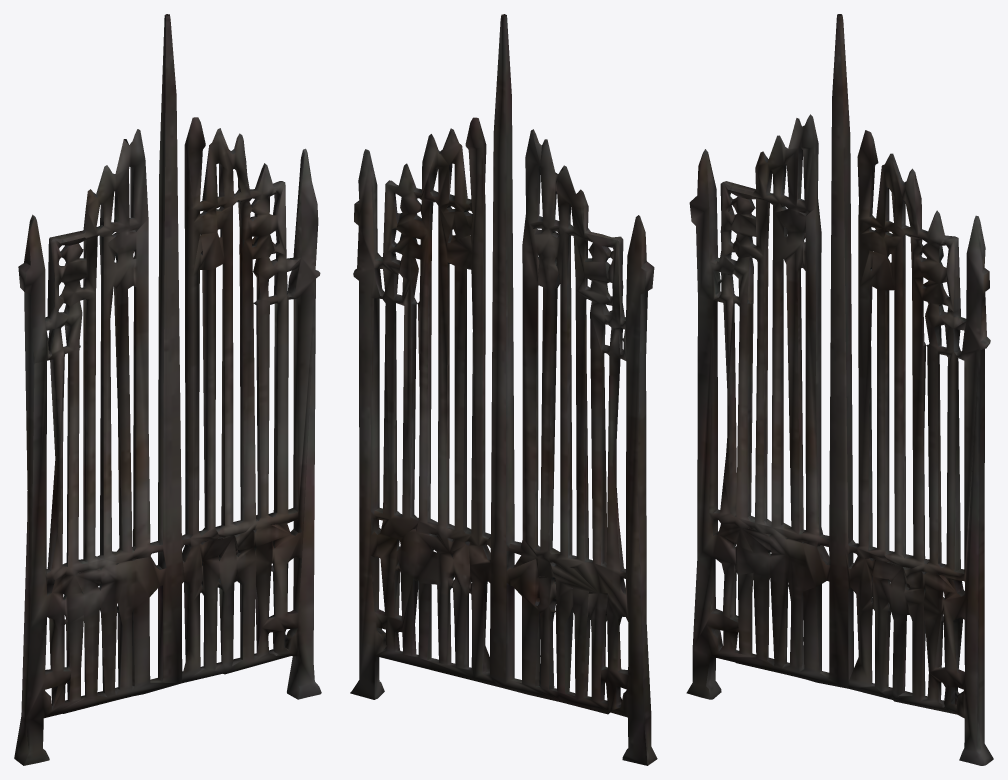
Rendered from weathered-iron-iron-gate-v001.glb.
3 renders of one model, left to right at view 1: azimuth 30°, elevation 25°; view 2: azimuth 150°, elevation 25°; view 3: azimuth 330°, elevation 25°, orthographic.
Visible parts, largest first — view 1: weathered-iron-iron-gate; view 2: weathered-iron-iron-gate; view 3: weathered-iron-iron-gate.
Boxes of the visible parts, x1,y1,x2,y2 form: weathered-iron-iron-gate: (14, 14, 321, 765); weathered-iron-iron-gate: (350, 14, 657, 765); weathered-iron-iron-gate: (686, 14, 993, 765).
Size of the model in its own units: 1.25 by 2.85 by 0.0798.
1 material, 1 textured.
